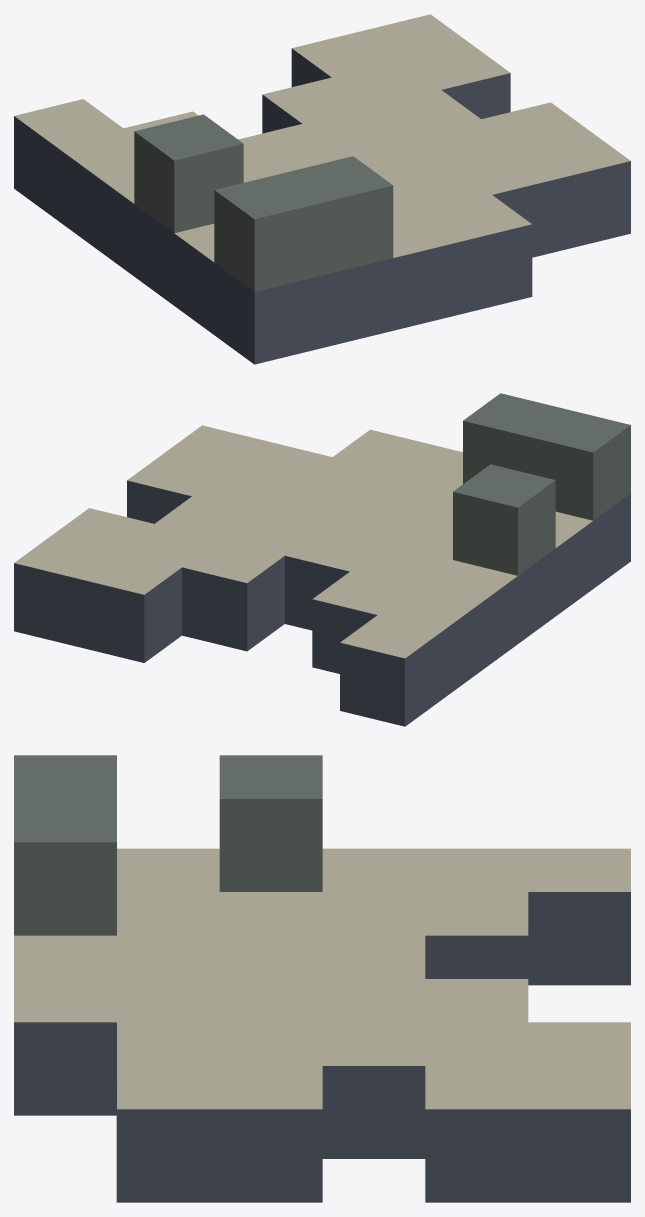
3 renders of one model, top to bottom at view 1: azimuth 30°, elevation 25°; view 2: azimuth 150°, elevation 25°; view 3: azimuth 270°, elevation 25°, orthographic. The views are drawn at different scales.
Parts seen in each view (by area): view 1: 6.1; view 2: 6.1; view 3: 6.1.
Boxes of the visible parts, box(x1,y1,x2,y2) form: 6.1: box(14, 14, 630, 364); 6.1: box(14, 393, 630, 726); 6.1: box(14, 755, 630, 1202).
Bounding box in the file's own units: 600 × 200 × 600.
